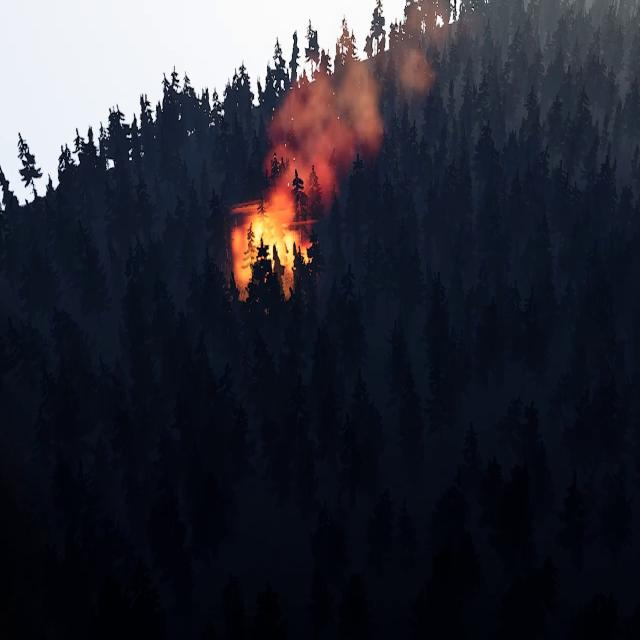fire: (228, 207, 311, 302)
smoke: (264, 0, 450, 218)
